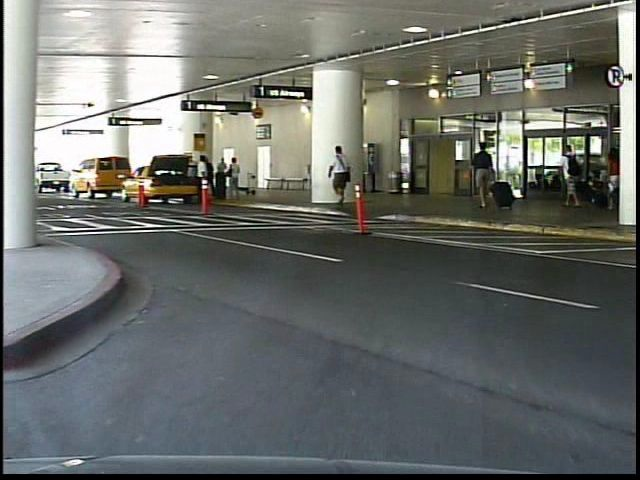person: (555, 138, 592, 218), (472, 139, 502, 215), (331, 144, 361, 211)
